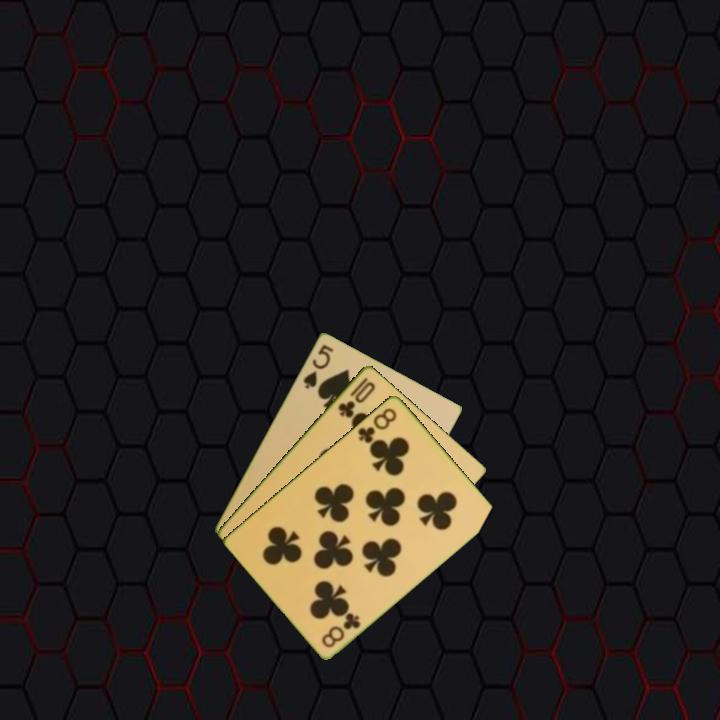10c: (334, 373, 378, 420)
5s: (299, 340, 336, 391)
8c: (354, 404, 400, 446), (318, 609, 363, 650)
